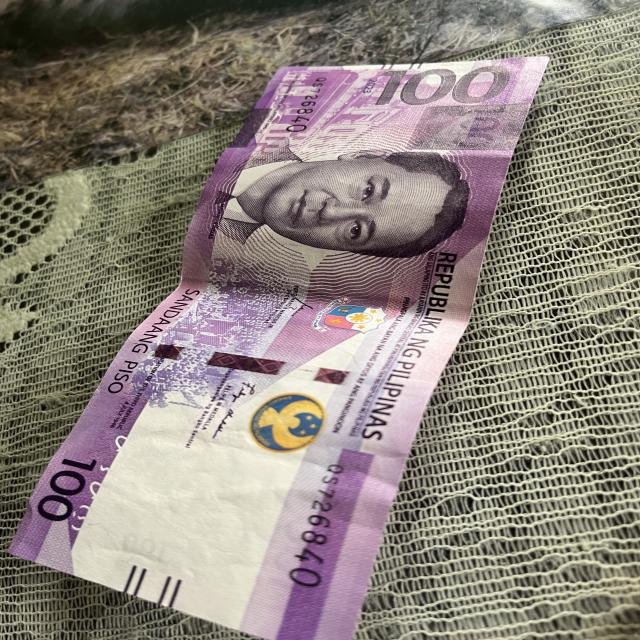concealed_value: (404, 103, 530, 150)
security_thread: (120, 338, 433, 400)
see_through_mark: (60, 431, 143, 537)
serial_number: (280, 462, 352, 593), (281, 74, 331, 135)
value: (368, 63, 517, 104)
value_watermark: (117, 529, 174, 563)
watermark: (104, 431, 282, 588)
